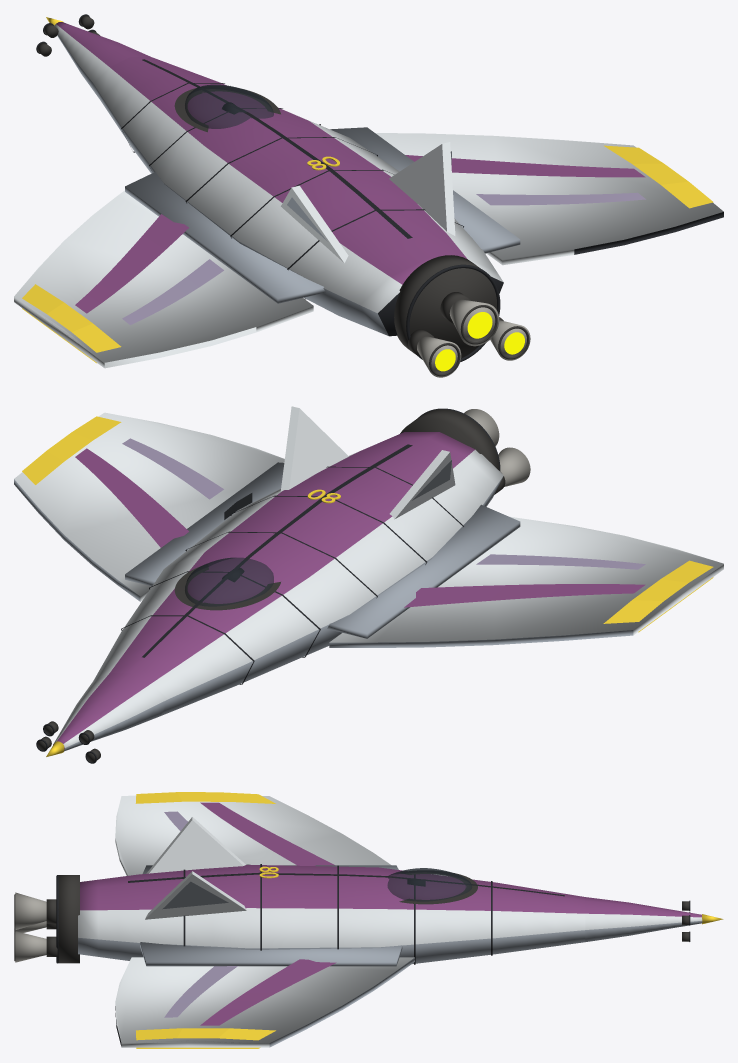
Rendered from Ship_DeltaWing_368386.glb.
3 renders of one model, top to bottom at view 1: azimuth 30°, elevation 25°; view 2: azimuth 150°, elevation 25°; view 3: azimuth 270°, elevation 25°, orthographic. The views are drawn at different scales.
Parts seen in each view (by area): view 1: Fuselage_MainWedgeBody, Wing_Left_DeltaAerofoil, Wing_Right_DeltaAerofoil, WingRoot_Left_BlendedShoulder, EngineBlock_AftIntegratedHousing, TailFin_Right_CantedStabilizer, WingRoot_Right_BlendedShoulder, PaintWingChevron_Left_PrimarySweep, CanopyGlass_LowInsetDome, Nose_ForwardNeedle, PaintWingChevron_Right_PrimarySweep, WingTipTrim_Left_HardCutPanel_Top (+11 smaller); view 2: Fuselage_MainWedgeBody, Wing_Left_DeltaAerofoil, Wing_Right_DeltaAerofoil, WingRoot_Left_BlendedShoulder, Nose_ForwardNeedle, CanopyGlass_LowInsetDome, WingRoot_Right_BlendedShoulder, PaintWingChevron_Left_PrimarySweep, PaintWingChevron_Right_PrimarySweep, TailFin_Right_CantedStabilizer, EngineBlock_AftIntegratedHousing, WingTipTrim_Left_HardCutPanel_Top (+7 smaller); view 3: Fuselage_MainWedgeBody, Wing_Right_DeltaAerofoil, Wing_Left_DeltaAerofoil, WingRoot_Right_BlendedShoulder, Nose_ForwardNeedle, TailFin_Left_CantedStabilizer, CanopyGlass_LowInsetDome, PaintWingChevron_Right_PrimarySweep, PaintWingChevron_Left_PrimarySweep, EngineBlock_AftIntegratedHousing, TailFin_Right_CantedStabilizer, WingTipTrim_Right_HardCutPanel_Top (+7 smaller).
Boxes of the visible parts, x1=… form: Fuselage_MainWedgeBody: x1=93, y1=57, x2=503, y2=336; Wing_Left_DeltaAerofoil: x1=14, y1=190, x2=313, y2=368; Wing_Right_DeltaAerofoil: x1=375, y1=133, x2=723, y2=265; WingRoot_Left_BlendedShoulder: x1=125, y1=172, x2=325, y2=303; EngineBlock_AftIntegratedHousing: x1=394, y1=255, x2=496, y2=358; TailFin_Right_CantedStabilizer: x1=389, y1=142, x2=455, y2=235; WingRoot_Right_BlendedShoulder: x1=330, y1=127, x2=520, y2=253; PaintWingChevron_Left_PrimarySweep: x1=75, y1=214, x2=188, y2=313; CanopyGlass_LowInsetDome: x1=185, y1=84, x2=273, y2=128; Nose_ForwardNeedle: x1=54, y1=22, x2=150, y2=98; PaintWingChevron_Right_PrimarySweep: x1=405, y1=155, x2=645, y2=177; WingTipTrim_Left_HardCutPanel_Top: x1=22, y1=284, x2=121, y2=352; Fuselage_MainWedgeBody: x1=93, y1=432, x2=503, y2=715; Wing_Left_DeltaAerofoil: x1=329, y1=516, x2=723, y2=647; Wing_Right_DeltaAerofoil: x1=14, y1=412, x2=284, y2=601; WingRoot_Left_BlendedShoulder: x1=327, y1=504, x2=520, y2=638; Nose_ForwardNeedle: x1=53, y1=673, x2=167, y2=751; CanopyGlass_LowInsetDome: x1=185, y1=557, x2=273, y2=606; WingRoot_Right_BlendedShoulder: x1=125, y1=462, x2=284, y2=585; PaintWingChevron_Left_PrimarySweep: x1=404, y1=584, x2=645, y2=607; PaintWingChevron_Right_PrimarySweep: x1=75, y1=448, x2=188, y2=547; TailFin_Right_CantedStabilizer: x1=280, y1=406, x2=348, y2=491; EngineBlock_AftIntegratedHousing: x1=400, y1=409, x2=499, y2=470; WingTipTrim_Left_HardCutPanel_Top: x1=603, y1=560, x2=713, y2=623; Fuselage_MainWedgeBody: x1=78, y1=864, x2=585, y2=963; Wing_Right_DeltaAerofoil: x1=115, y1=957, x2=414, y2=1047; Wing_Left_DeltaAerofoil: x1=115, y1=795, x2=391, y2=875; WingRoot_Right_BlendedShoulder: x1=140, y1=942, x2=402, y2=966; Nose_ForwardNeedle: x1=585, y1=897, x2=702, y2=941; TailFin_Left_CantedStabilizer: x1=146, y1=817, x2=245, y2=873; CanopyGlass_LowInsetDome: x1=387, y1=868, x2=471, y2=901; PaintWingChevron_Right_PrimarySweep: x1=200, y1=959, x2=336, y2=1025; PaintWingChevron_Left_PrimarySweep: x1=200, y1=802, x2=334, y2=865; EngineBlock_AftIntegratedHousing: x1=58, y1=875, x2=79, y2=963; TailFin_Right_CantedStabilizer: x1=145, y1=871, x2=246, y2=919; WingTipTrim_Right_HardCutPanel_Top: x1=136, y1=1028, x2=275, y2=1040.
Bounding box in the file's own units: 6.1 × 1.35 × 7.41.
